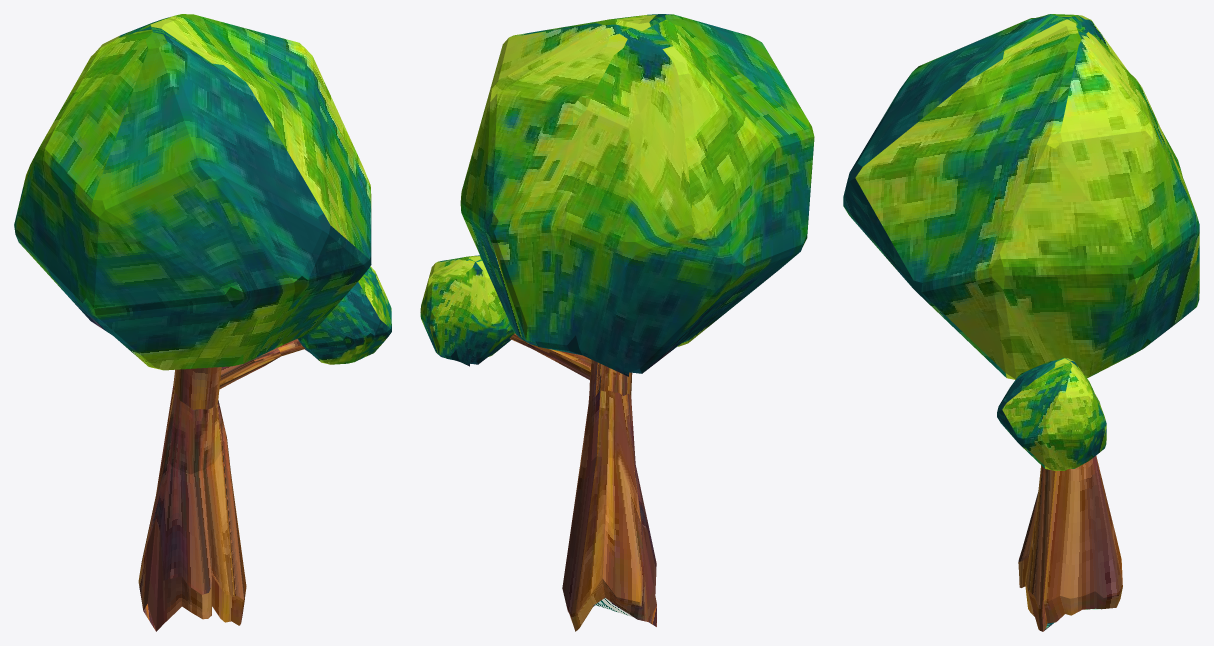
File: treebyme (2).glb
The picture shows the model from 3 angles, left to right: view 1: azimuth 30°, elevation 25°; view 2: azimuth 150°, elevation 25°; view 3: azimuth 270°, elevation 25°; orthographic projection. The views are drawn at different scales.
Parts seen in each view (by area): view 1: treetop, trunk, treetop.001, trunk.001; view 2: treetop, trunk, treetop.001, trunk.001; view 3: treetop, trunk, treetop.001.
Part boxes in pixels (x1=…): treetop: x1=14, y1=14, x2=371, y2=370; trunk: x1=138, y1=367, x2=246, y2=631; treetop.001: x1=297, y1=266, x2=391, y2=364; trunk.001: x1=219, y1=339, x2=305, y2=389; treetop: x1=460, y1=14, x2=814, y2=376; trunk: x1=562, y1=359, x2=656, y2=631; treetop.001: x1=420, y1=255, x2=514, y2=366; trunk.001: x1=510, y1=333, x2=591, y2=379; treetop: x1=843, y1=14, x2=1199, y2=379; trunk: x1=1018, y1=456, x2=1122, y2=631; treetop.001: x1=997, y1=358, x2=1106, y2=470.
Size of the model in its own units: 8.48 by 14.33 by 8.
2 materials, 2 textured.
